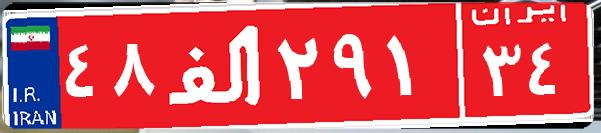1: (385, 28, 445, 110)
2: (273, 28, 330, 110)
3: (475, 38, 525, 113)
4: (57, 26, 110, 107), (525, 38, 570, 115)
8: (110, 28, 158, 105)
9: (330, 28, 385, 110)
الف: (158, 15, 273, 115)
